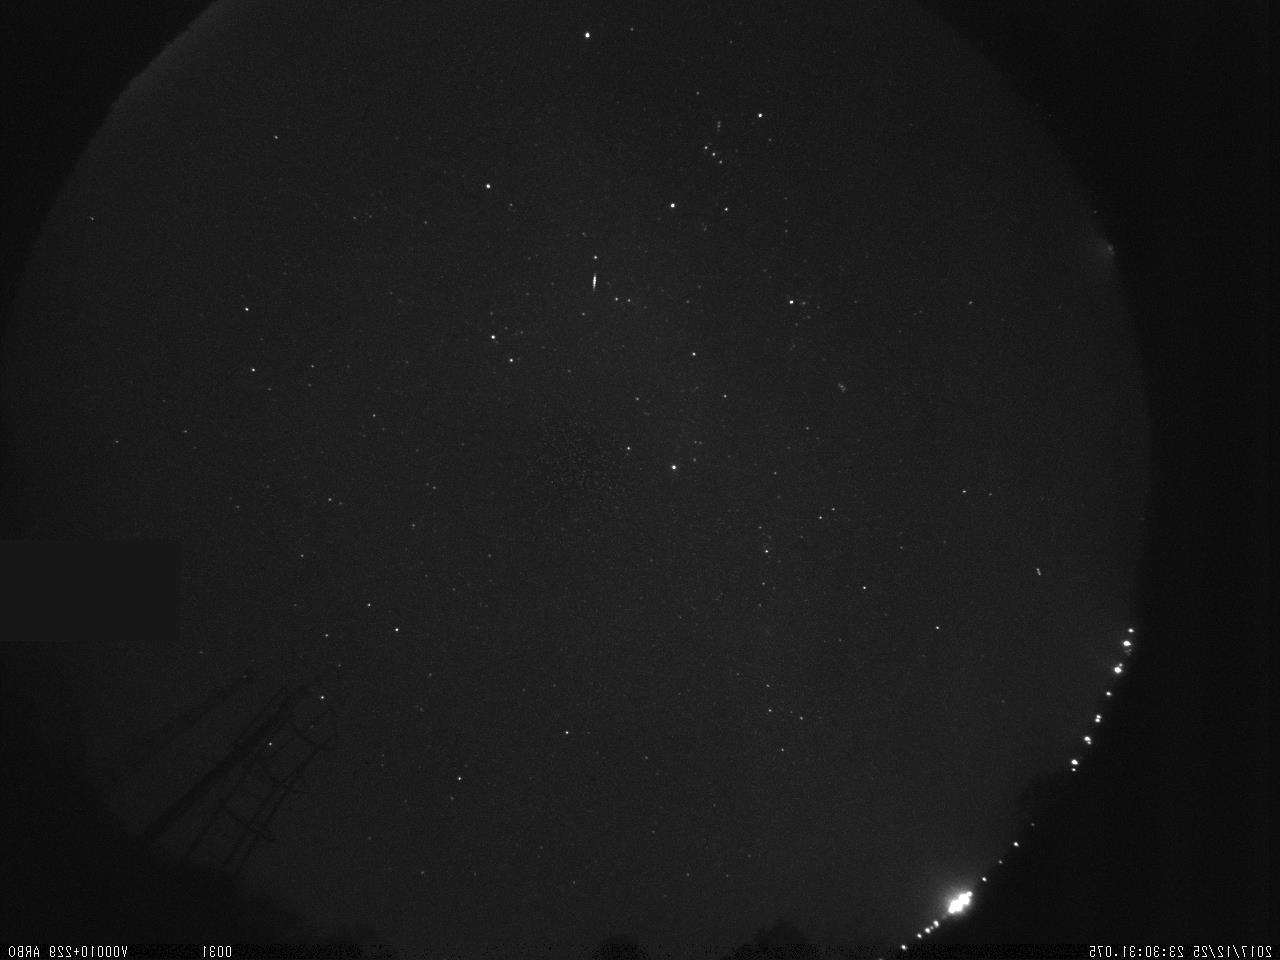meteor: (580, 269, 612, 296)
